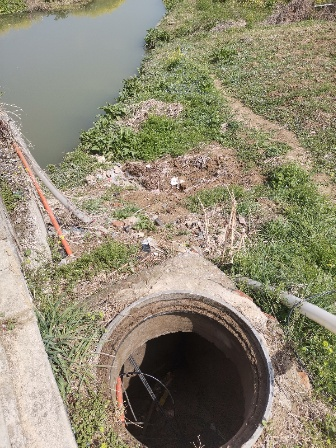well: (93, 290, 273, 447)
